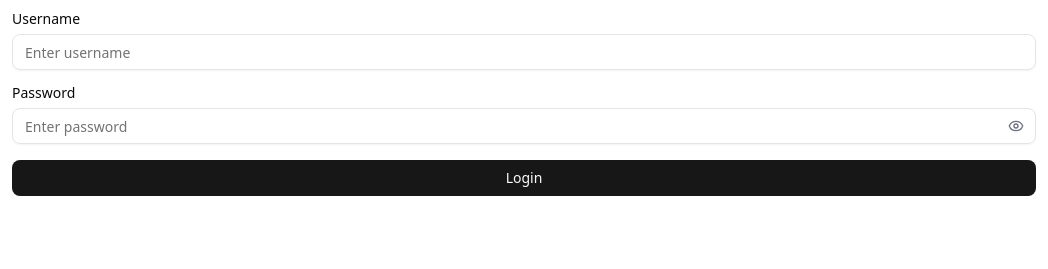
it: LoginForm › shows validation error on empty submit
The width and height of the screenshot is (1048, 269).
Note: Click login without typing anything
Click the button "Login".
click(524, 178)  # box [12,160,1036,196]
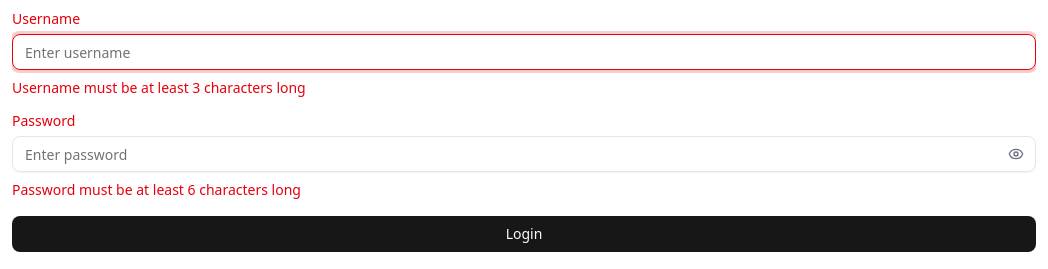
expect the text "Username must be at least 3 characters long" is shown: met, box [12,78,306,97]
expect the text "Password must be at least 6 characters long" is shown: met, box [12,180,301,199]
